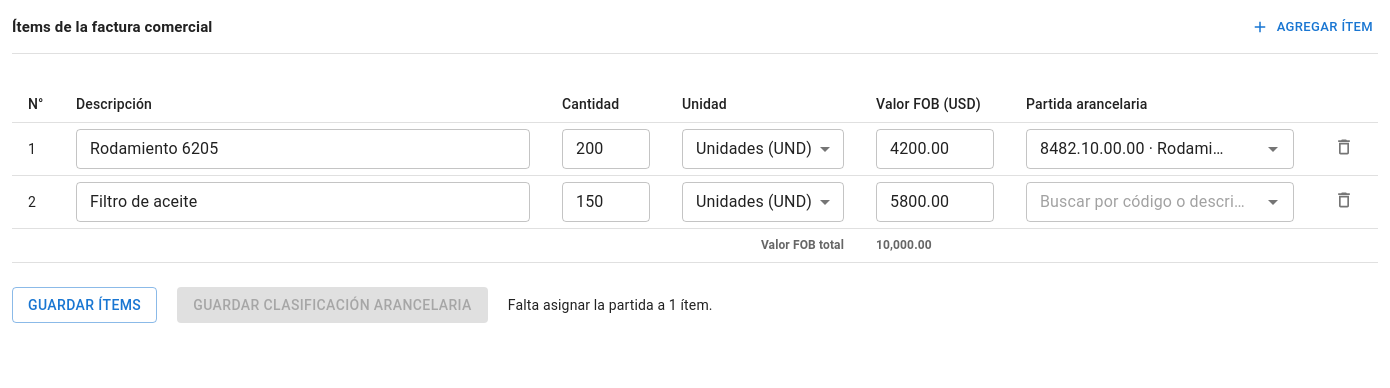
ClasificacionDespacho (HU-07) › CA3: si el backend responde 409 ITEMS_SIN_PARTIDA nombra los ítems pendientes
Type "filtro" into the dropdown named "Partida arancelaria del ítem 2" at [1144, 202], box [1032,188,1255,216]
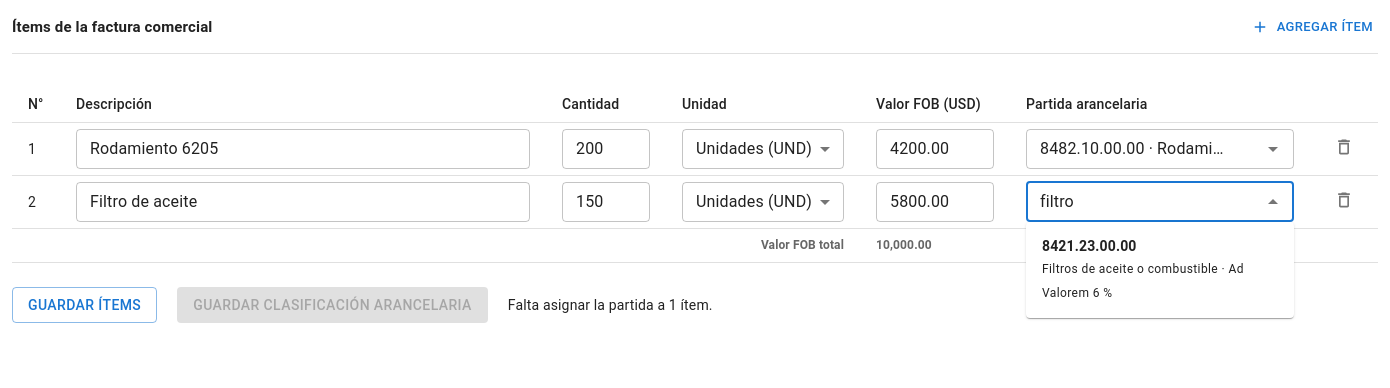
Click the option "8421.23.00.00" at [1143, 269], box [1042,238,1244,300]
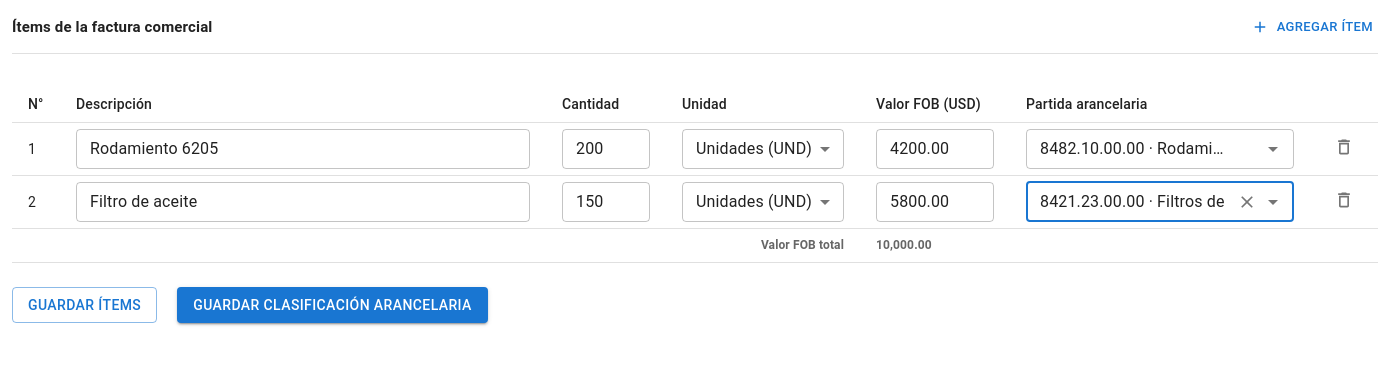
Click the button "Guardar clasificación arancelaria" at [332, 305], box [177,287,488,323]
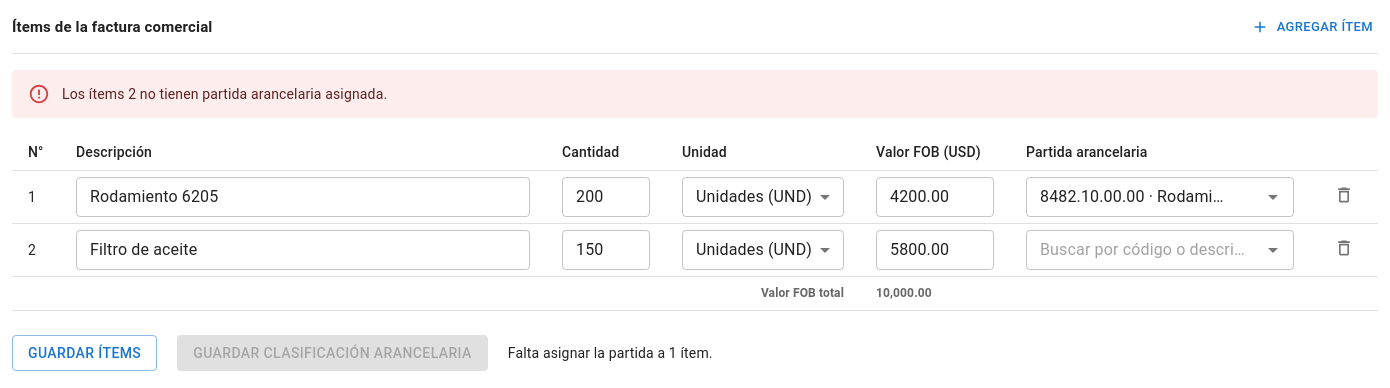
expect the text "Los ítems 2 no tienen partida arancelaria asignada." is shown: met, box [62,86,387,102]
